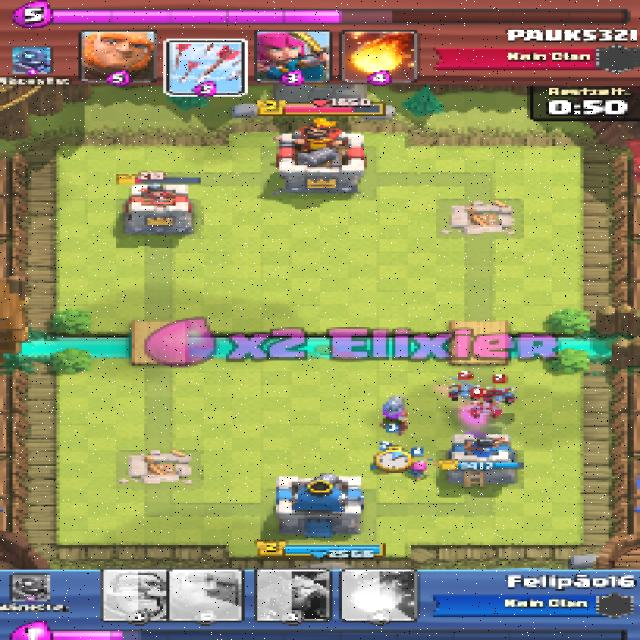Enemy-Minion: (479, 386, 513, 405), (465, 402, 501, 418), (446, 382, 476, 399)
Player-Archer: (411, 460, 430, 477)
Player-Musketeer: (381, 395, 409, 432)
